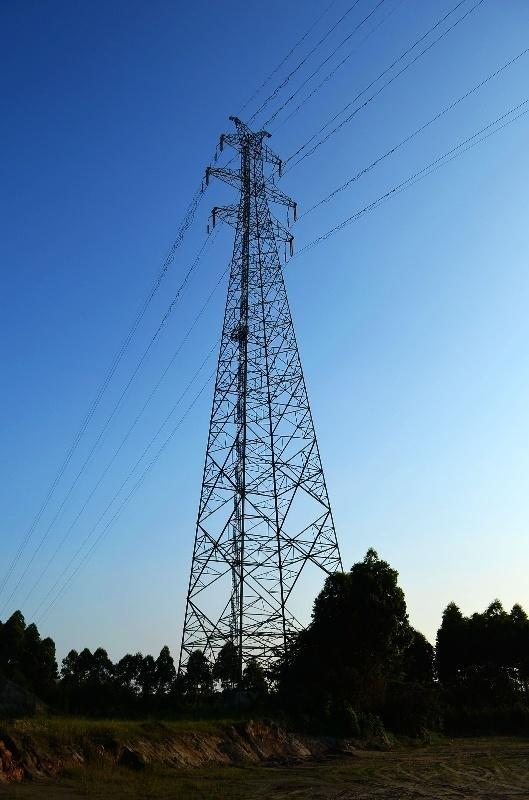power_tower: (176, 113, 343, 698)
